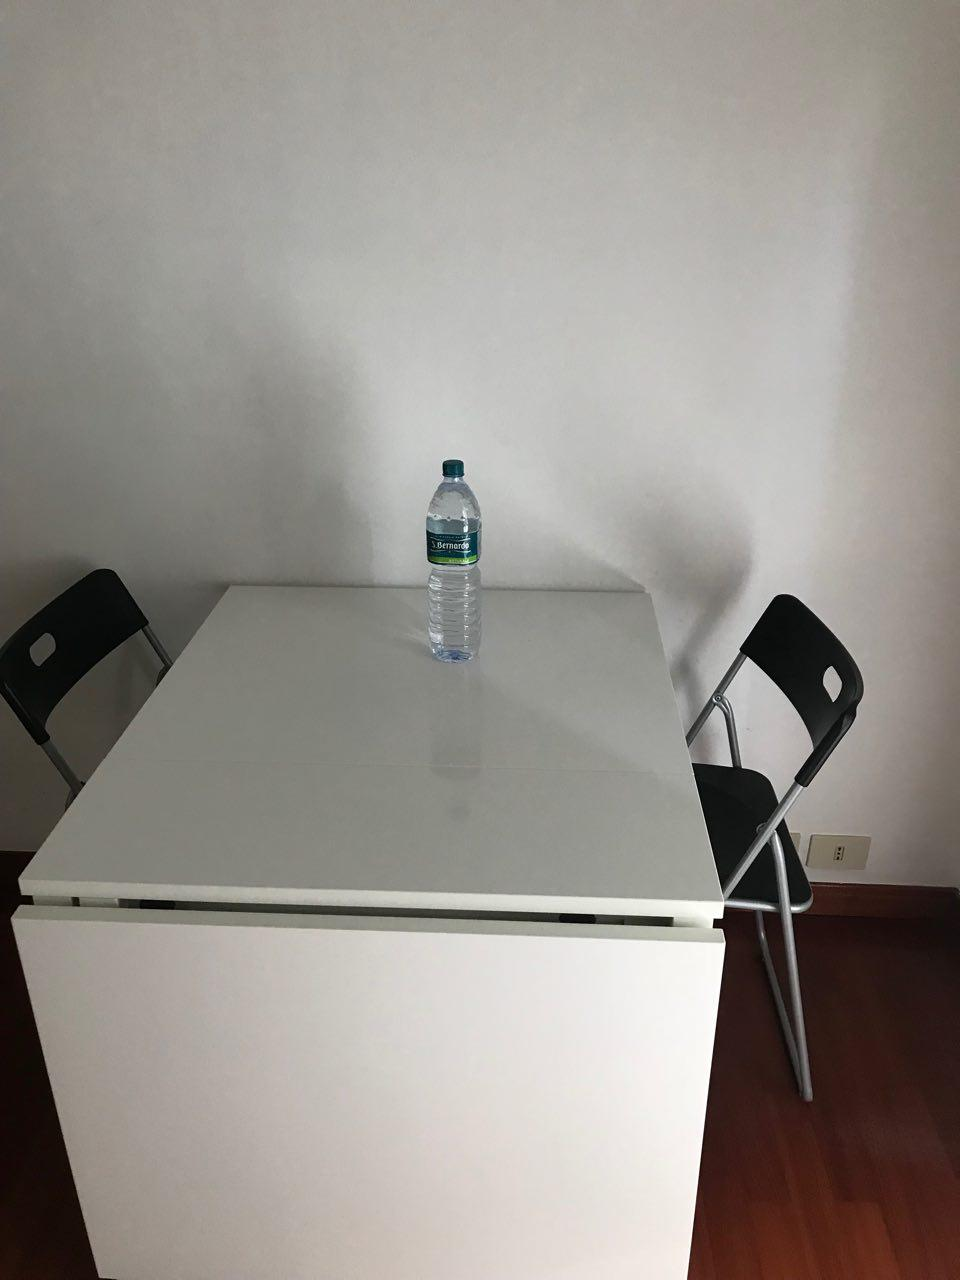san_bernardo: (425, 459, 482, 664)
